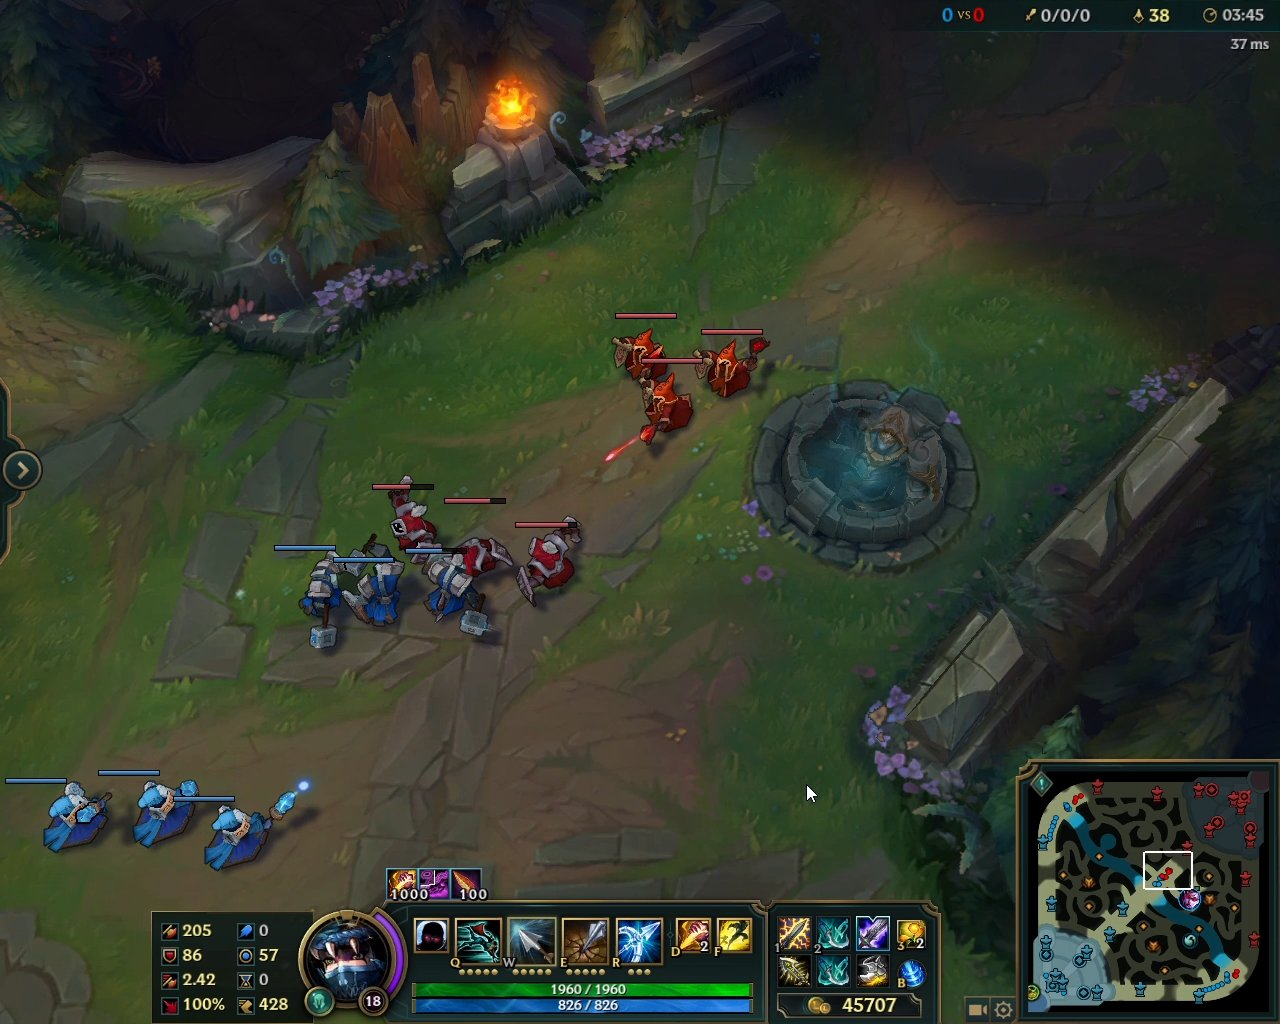EnemyMinion: (510, 514, 582, 609), (631, 357, 703, 448), (370, 474, 437, 568), (690, 326, 773, 401), (440, 497, 508, 578), (609, 312, 684, 385)
